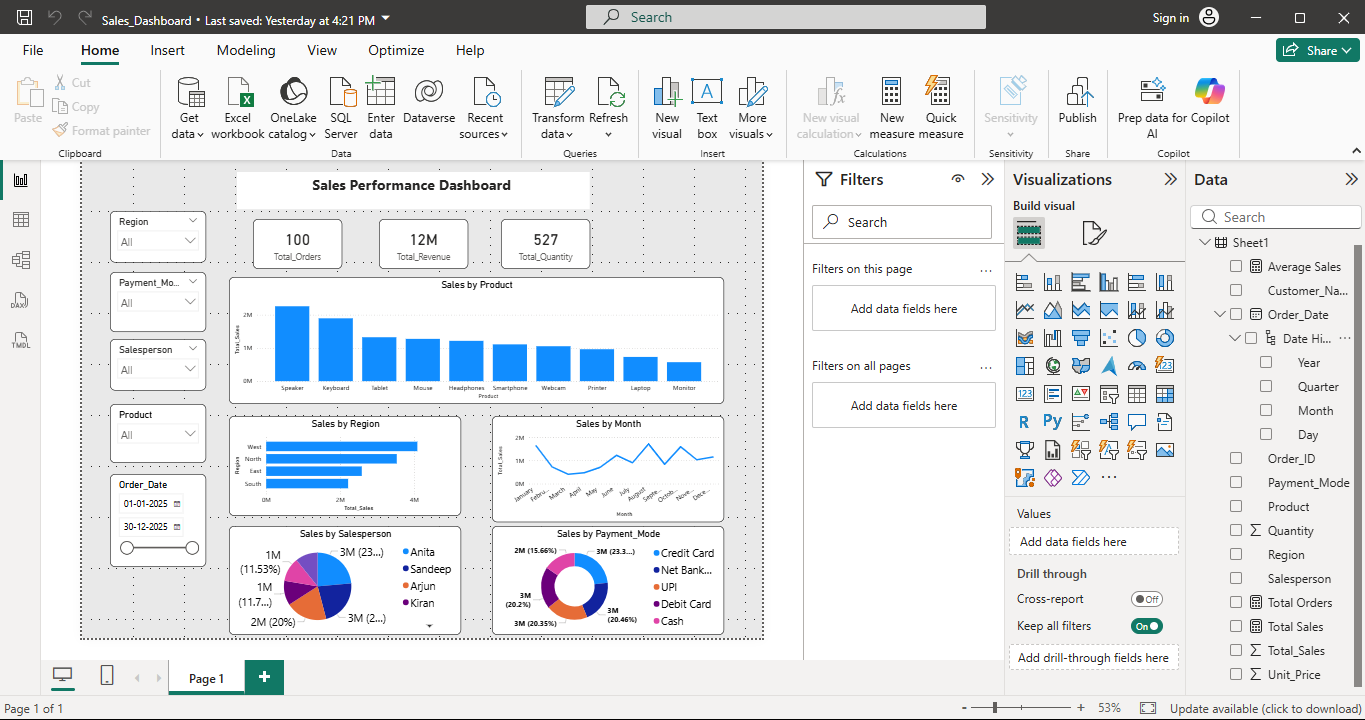

This screenshot's page, from the dashboard's own definition file:
{"tool":"powerbi","page":{"name":"Page 1","canvas":[1280,900],"ordinal":0},"visuals":[{"type":"clusteredBarChart","title":"Sales by Region","fields":{"Category":["Sheet1.Region"],"Y":["Sum(Sheet1.Total_Sales)"]},"box":[276.7,481.9,436.7,188.2],"z":0},{"type":"clusteredColumnChart","title":"Sales by Product","fields":{"Y":["Sum(Sheet1.Total_Sales)"],"Category":["Sheet1.Product"]},"box":[276.7,220.2,931.8,239.1],"z":1000},{"type":"card","fields":{"Values":["Sum(Sheet1.Total_Sales)"]},"box":[559.1,111.1,167.5,94.1],"z":2000,"group":"g1"},{"type":"lineChart","title":"Sales by Month","fields":{"Y":["Sum(Sheet1.Total_Sales)"],"Category":["Sheet1.Order_Date.Variation.Date Hierarchy.Month"]},"box":[771.8,481.9,436.7,199.5],"z":2000},{"type":"pieChart","title":"Sales by Salesperson","fields":{"Category":["Sheet1.Salesperson"],"Y":["Sum(Sheet1.Total_Sales)"]},"box":[276.7,688.9,436.7,205.2],"z":3000},{"type":"card","fields":{"Values":["CountNonNull(Sheet1.Order_ID)"]},"box":[321.9,111.1,167.5,94.1],"z":4000,"group":"g1"},{"type":"donutChart","title":"Sales by Payment_Mode","fields":{"Category":["Sheet1.Payment_Mode"],"Y":["Sum(Sheet1.Total_Sales)"]},"box":[771.8,688.9,436.7,205.2],"z":4000},{"type":"slicer","fields":{"Values":["Sheet1.Region"]},"box":[52.7,96,180.7,97.4],"z":5000,"group":"g2"},{"type":"textbox","box":[291.8,22.6,664.5,69.6],"z":6000},{"type":"slicer","fields":{"Values":["Sheet1.Product"]},"box":[52.7,459.7,180.7,111.3],"z":6000,"group":"g2"},{"type":"group","id":"g1","title":"Group 1","box":[321.9,111.1,634.4,94.1],"z":7000},{"type":"card","fields":{"Values":["Sum(Sheet1.Quantity)"]},"box":[788.7,111.1,167.5,94.1],"z":7000,"group":"g1"},{"type":"slicer","fields":{"Values":["Sheet1.Salesperson"]},"box":[52.7,336.5,180.7,97.4],"z":7000,"group":"g2"},{"type":"slicer","fields":{"Values":["Sheet1.Payment_Mode"]},"box":[52.7,211.3,180.7,113.3],"z":8000,"group":"g2"},{"type":"slicer","fields":{"Values":["Sheet1.Order_Date"]},"box":[52.7,591.1,180.7,175.1],"z":9000,"group":"g2"},{"type":"group","id":"g2","title":"Group 2","box":[52.7,96,180.7,670.1],"z":9001}]}

Visuals, with their boxes on the page's 1280x900 design canvas (x1, y1, x2, y2). These are canvas units, not pixel positions in the 1365x720 screenshot, which may show the page scaled, cropped or inside an application window:
"Sales by Region" clusteredBarChart: 277/482/713/670
"Sales by Product" clusteredColumnChart: 277/220/1208/459
card - Sum(Sheet1.Total_Sales): 559/111/727/205
"Sales by Month" lineChart: 772/482/1208/681
"Sales by Salesperson" pieChart: 277/689/713/894
card - CountNonNull(Sheet1.Order_ID): 322/111/489/205
"Sales by Payment_Mode" donutChart: 772/689/1208/894
slicer - Sheet1.Region: 53/96/233/193
textbox: 292/23/956/92
slicer - Sheet1.Product: 53/460/233/571
"Group 1" group: 322/111/956/205
card - Sum(Sheet1.Quantity): 789/111/956/205
slicer - Sheet1.Salesperson: 53/336/233/434
slicer - Sheet1.Payment_Mode: 53/211/233/325
slicer - Sheet1.Order_Date: 53/591/233/766
"Group 2" group: 53/96/233/766
